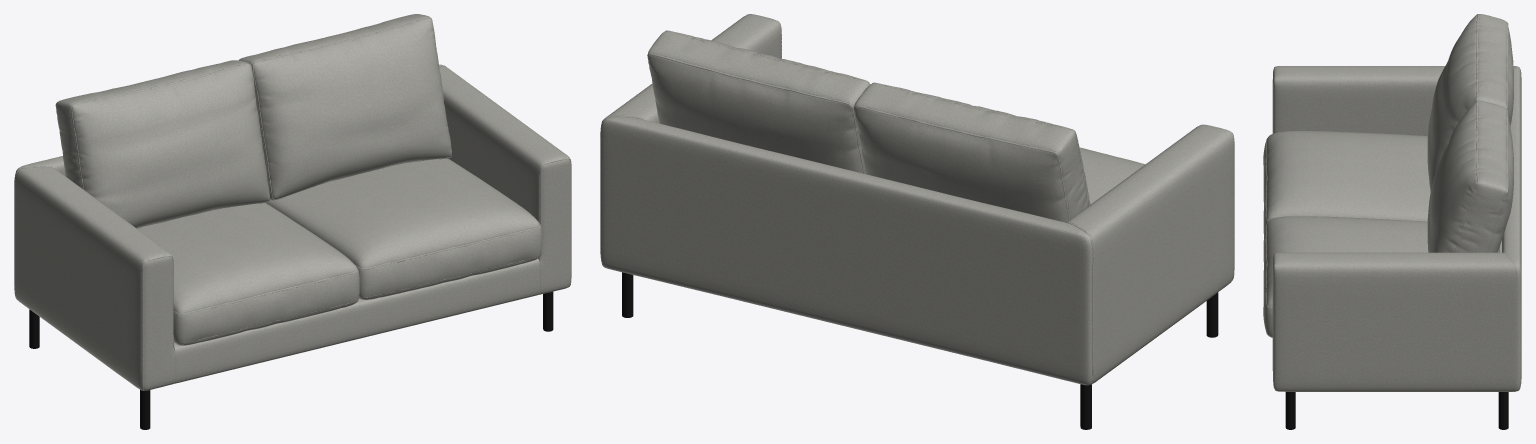
Rendered from 20 - SALTSJÖBADEN - 雙人座沙發，Tonerud 灰色 IKEA 線上購物.glb.
3 renders of one model, left to right at view 1: azimuth 30°, elevation 25°; view 2: azimuth 150°, elevation 25°; view 3: azimuth 270°, elevation 25°, orthographic. The views are drawn at different scales.
Parts seen in each view (by area): view 1: 0006, 0000, 0009; view 2: 0006, 0000, 0009; view 3: 0006, 0000, 0009.
Boxes of the visible parts, left/top/right/bottom form: 0006: left=14, top=14, right=571, bottom=390; 0000: left=29, top=291, right=553, bottom=429; 0009: left=14, top=17, right=571, bottom=389; 0006: left=600, top=14, right=1234, bottom=385; 0000: left=622, top=272, right=1218, bottom=429; 0009: left=606, top=14, right=1234, bottom=383; 0006: left=1263, top=14, right=1521, bottom=391; 0000: left=1285, top=392, right=1508, bottom=429; 0009: left=1265, top=14, right=1516, bottom=391.
Size of the model in its own units: 1.64 by 0.8903 by 0.8797.
Materials: 2 (1 with a texture image).
